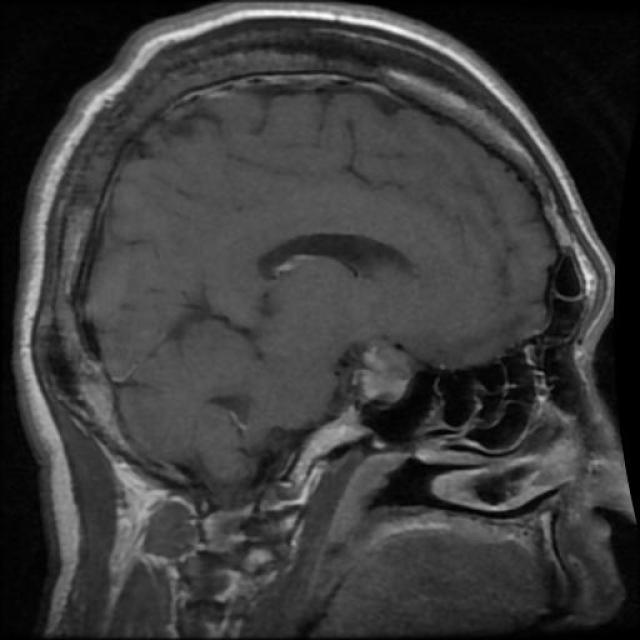pituitary: (350, 338, 420, 412)
